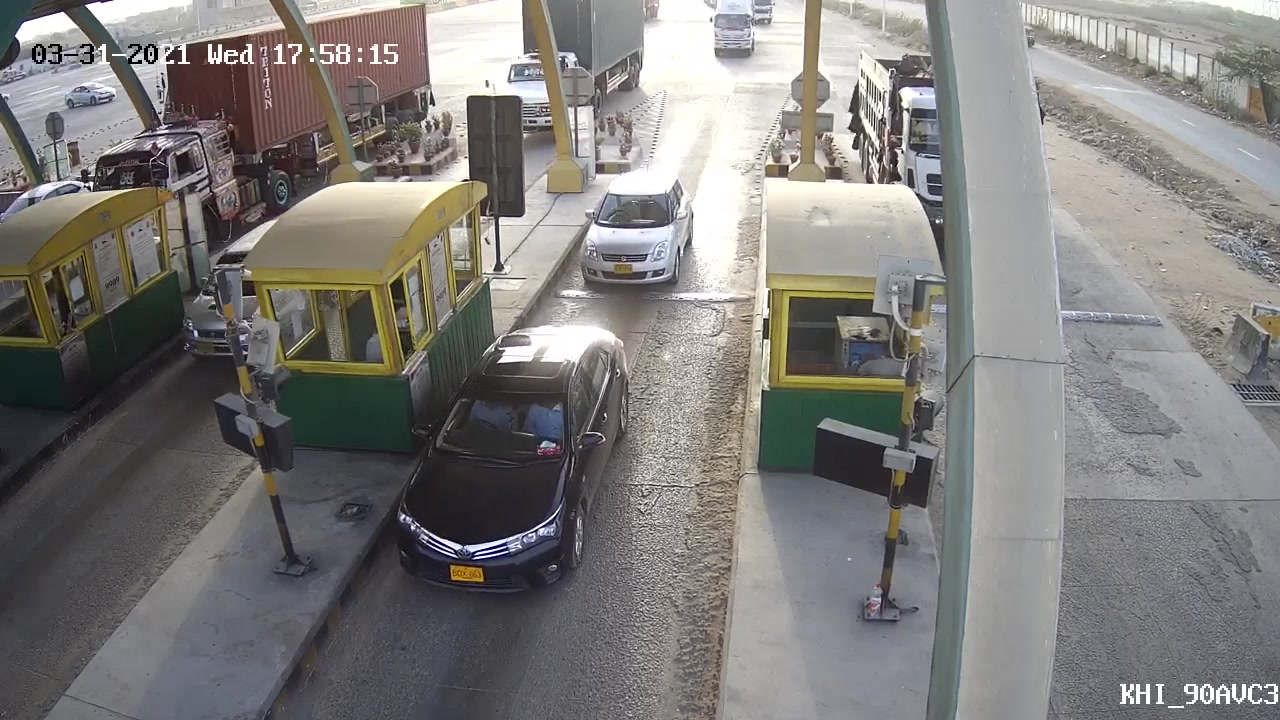F1: (387, 319, 636, 599), (570, 171, 697, 288)
